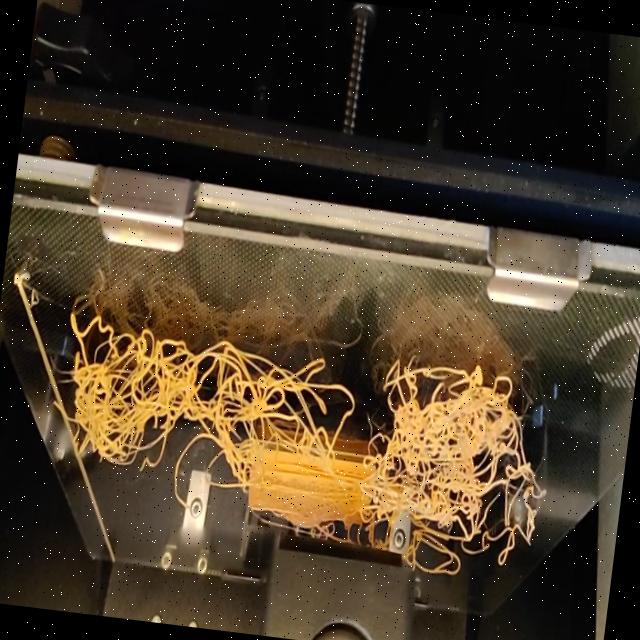spaghetti: (41, 280, 562, 572)
